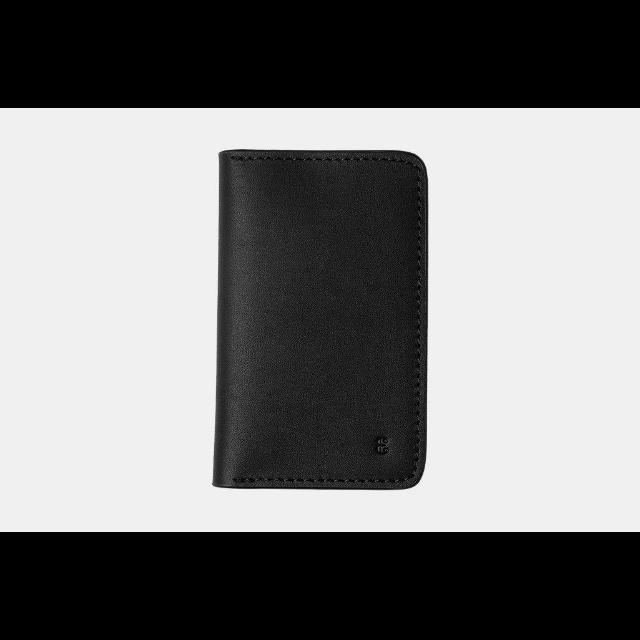Wallet: (214, 150, 426, 490)
